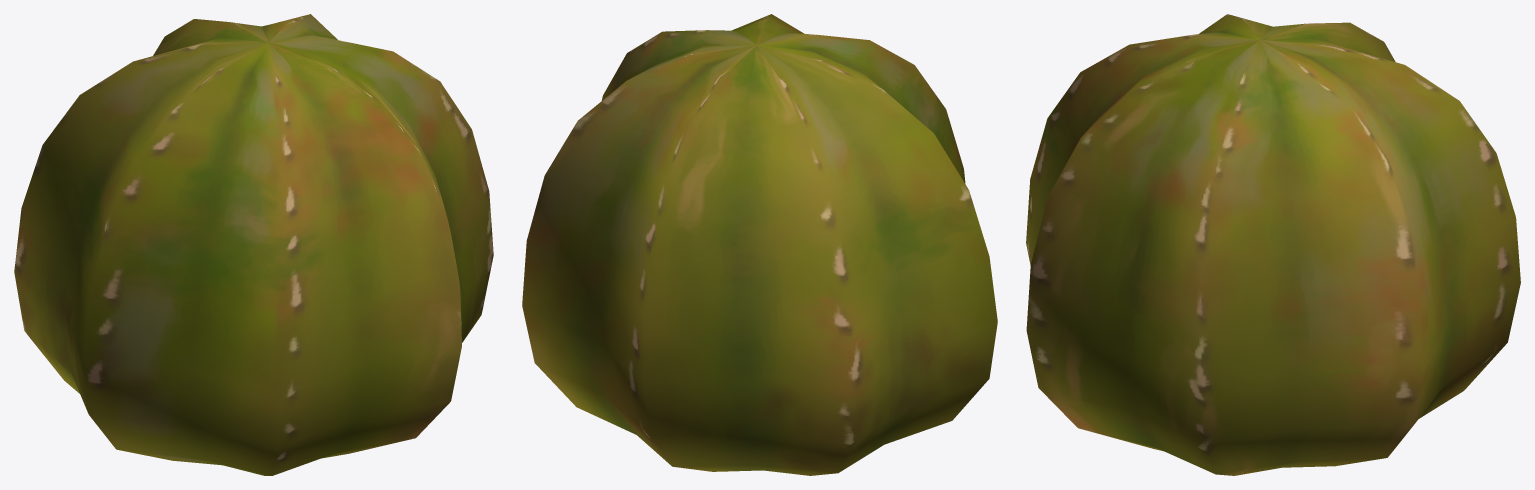
Rendered from SM_CactusBulb02.fbx.
3 renders of one model, left to right at view 1: azimuth 30°, elevation 25°; view 2: azimuth 150°, elevation 25°; view 3: azimuth 270°, elevation 25°, orthographic. The views are drawn at different scales.
Visible parts, largest first — view 1: SM_CactusBulb02; view 2: SM_CactusBulb02; view 3: SM_CactusBulb02.
Boxes of the visible parts, x1=… form: SM_CactusBulb02: x1=14, y1=14, x2=493, y2=475; SM_CactusBulb02: x1=522, y1=14, x2=997, y2=475; SM_CactusBulb02: x1=1026, y1=14, x2=1520, y2=475.
Size of the model in its own units: 104 by 95.39 by 104.
